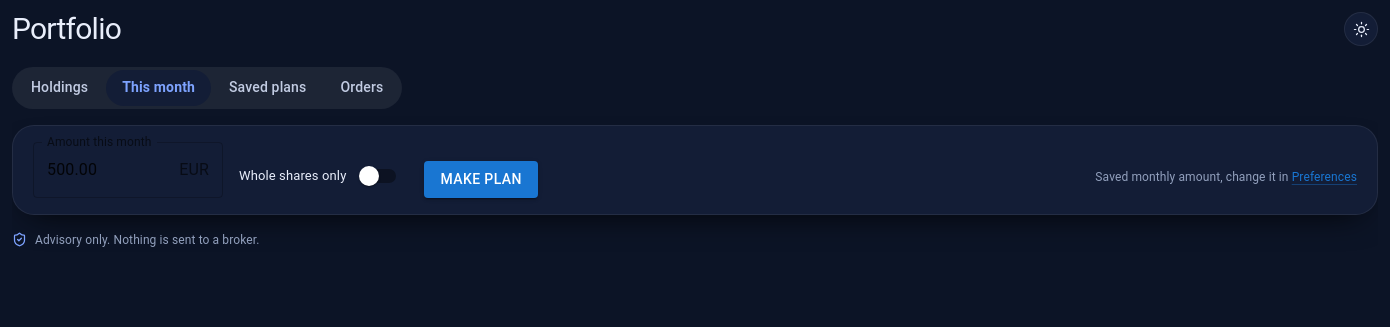
Scenario: Plan page › prefills the saved monthly amount and validates it
The image size is (1390, 327).
expect the button "Make plan" is enabled: met, box [424, 161, 538, 198]
Replace the text in the field labelled "Amount this month" with "0": (102, 170) [33, 142, 171, 198]
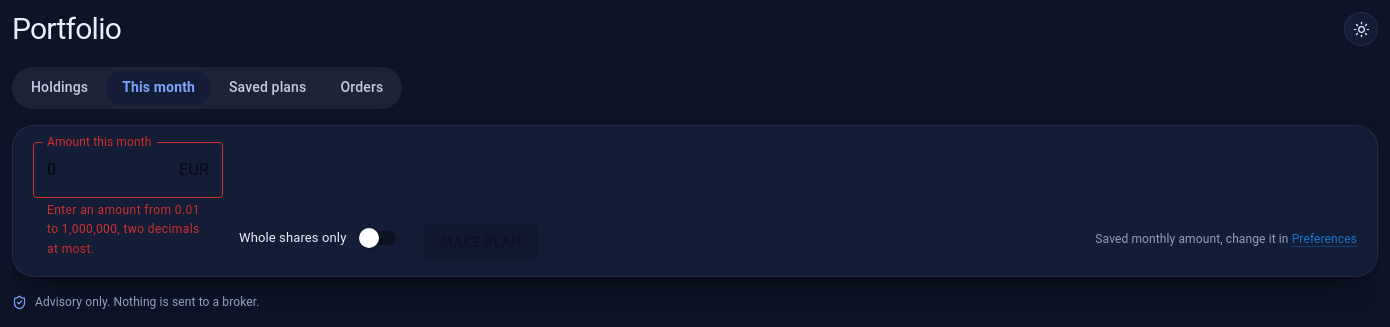
Replace the text in the field labelled "Amount this month" with "1000000.01": (102, 170) [33, 142, 171, 198]
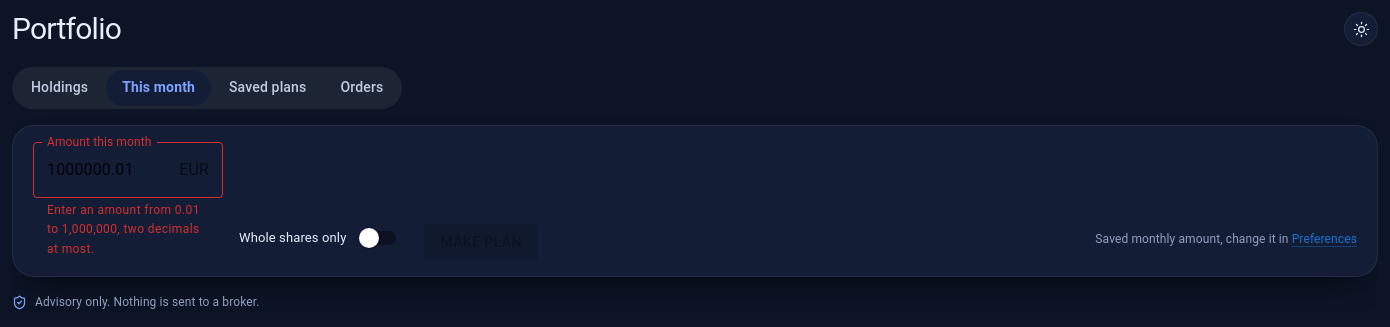
Replace the text in the field labelled "Amount this month" with "12.345": (102, 170) [33, 142, 171, 198]
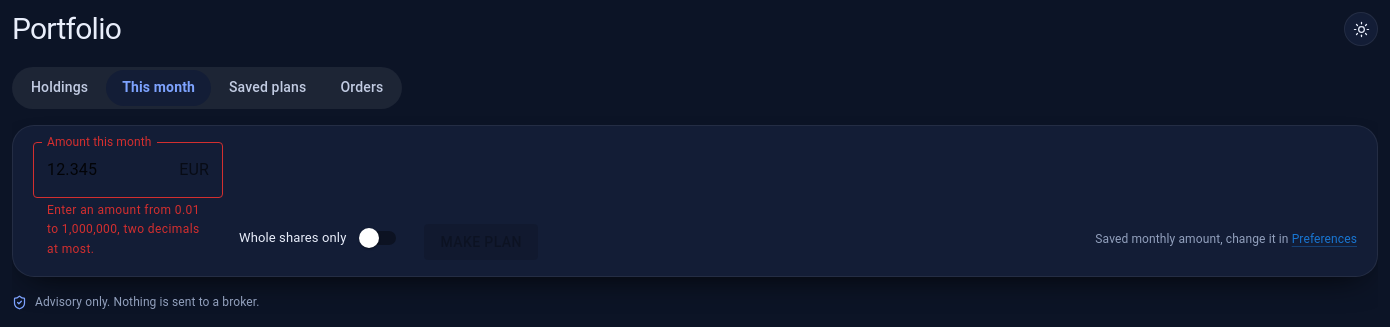
Replace the text in the field labelled "Amount this month" with "-3": (102, 170) [33, 142, 171, 198]
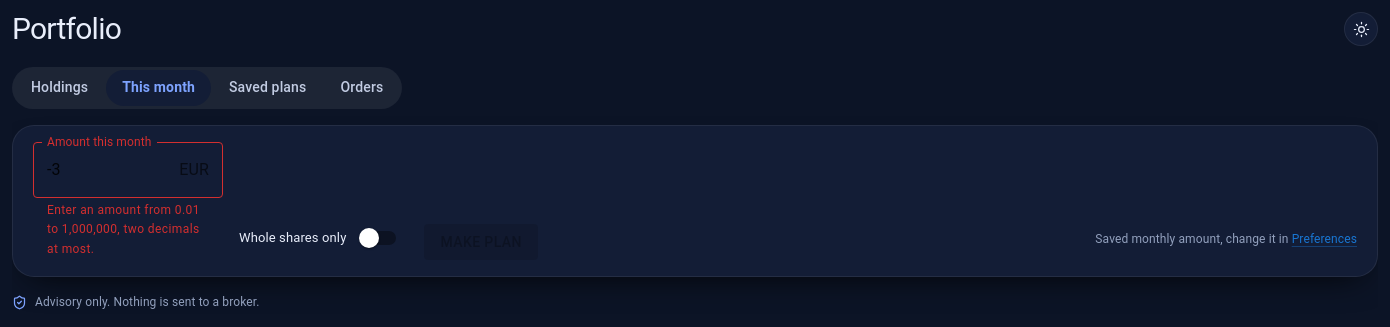
expect the text "Enter an amount from 0.01 to 1,000,000" is shown: met, box [47, 202, 200, 256]
Replace the text in the field labelled "Amount this month" with "1000000": (102, 170) [33, 142, 171, 198]
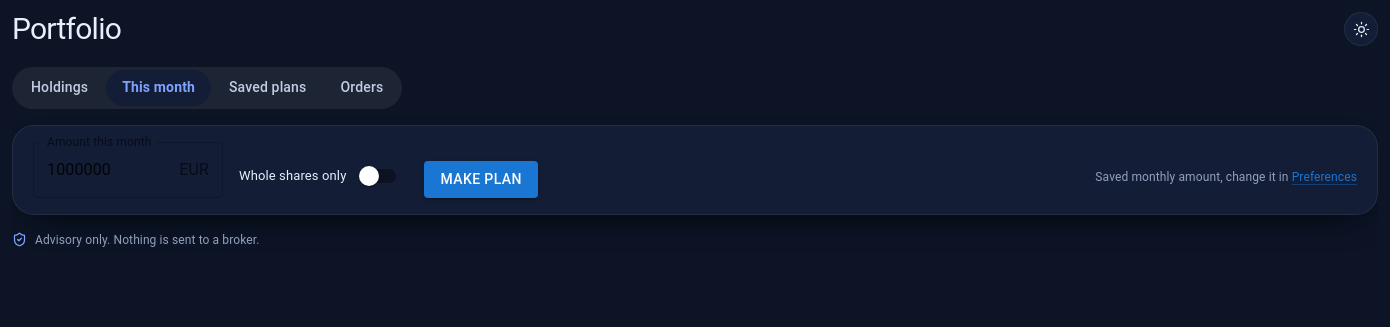
expect the button "Make plan" is enabled: met, box [424, 161, 538, 198]
